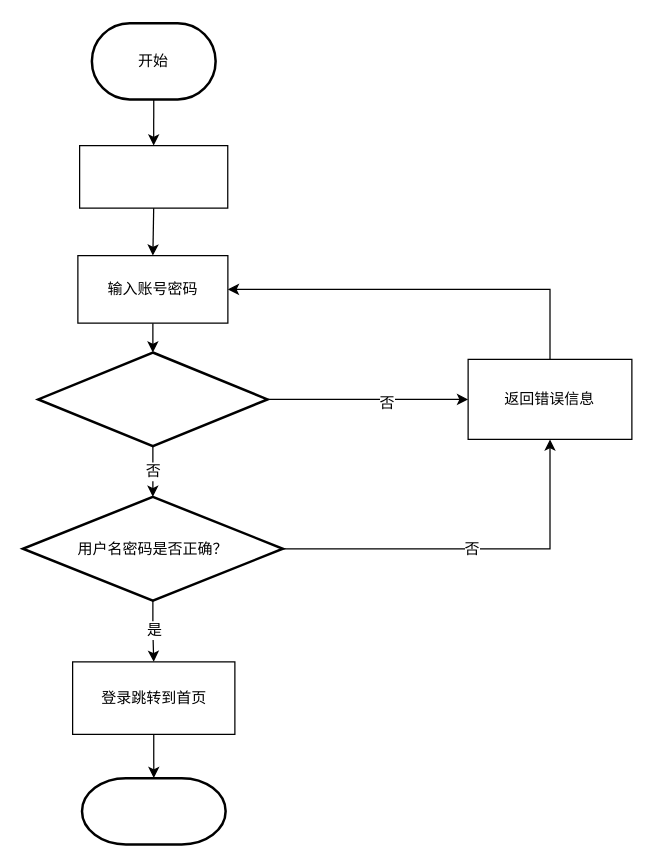
Some shapes in this 654 by 866 pixel diagram are drawn without their labels. The shapes that lost their labels are listed below. From the top down, each one's centre as x and y in pixels, then its label:
point 153,176: 进入登录页面
point 152,399: 用户名或密码是否为空？
point 153,810: 结束
